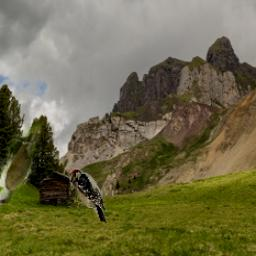Cuckoo: (0, 113, 43, 206)
Woodpecker: (69, 169, 109, 226)
